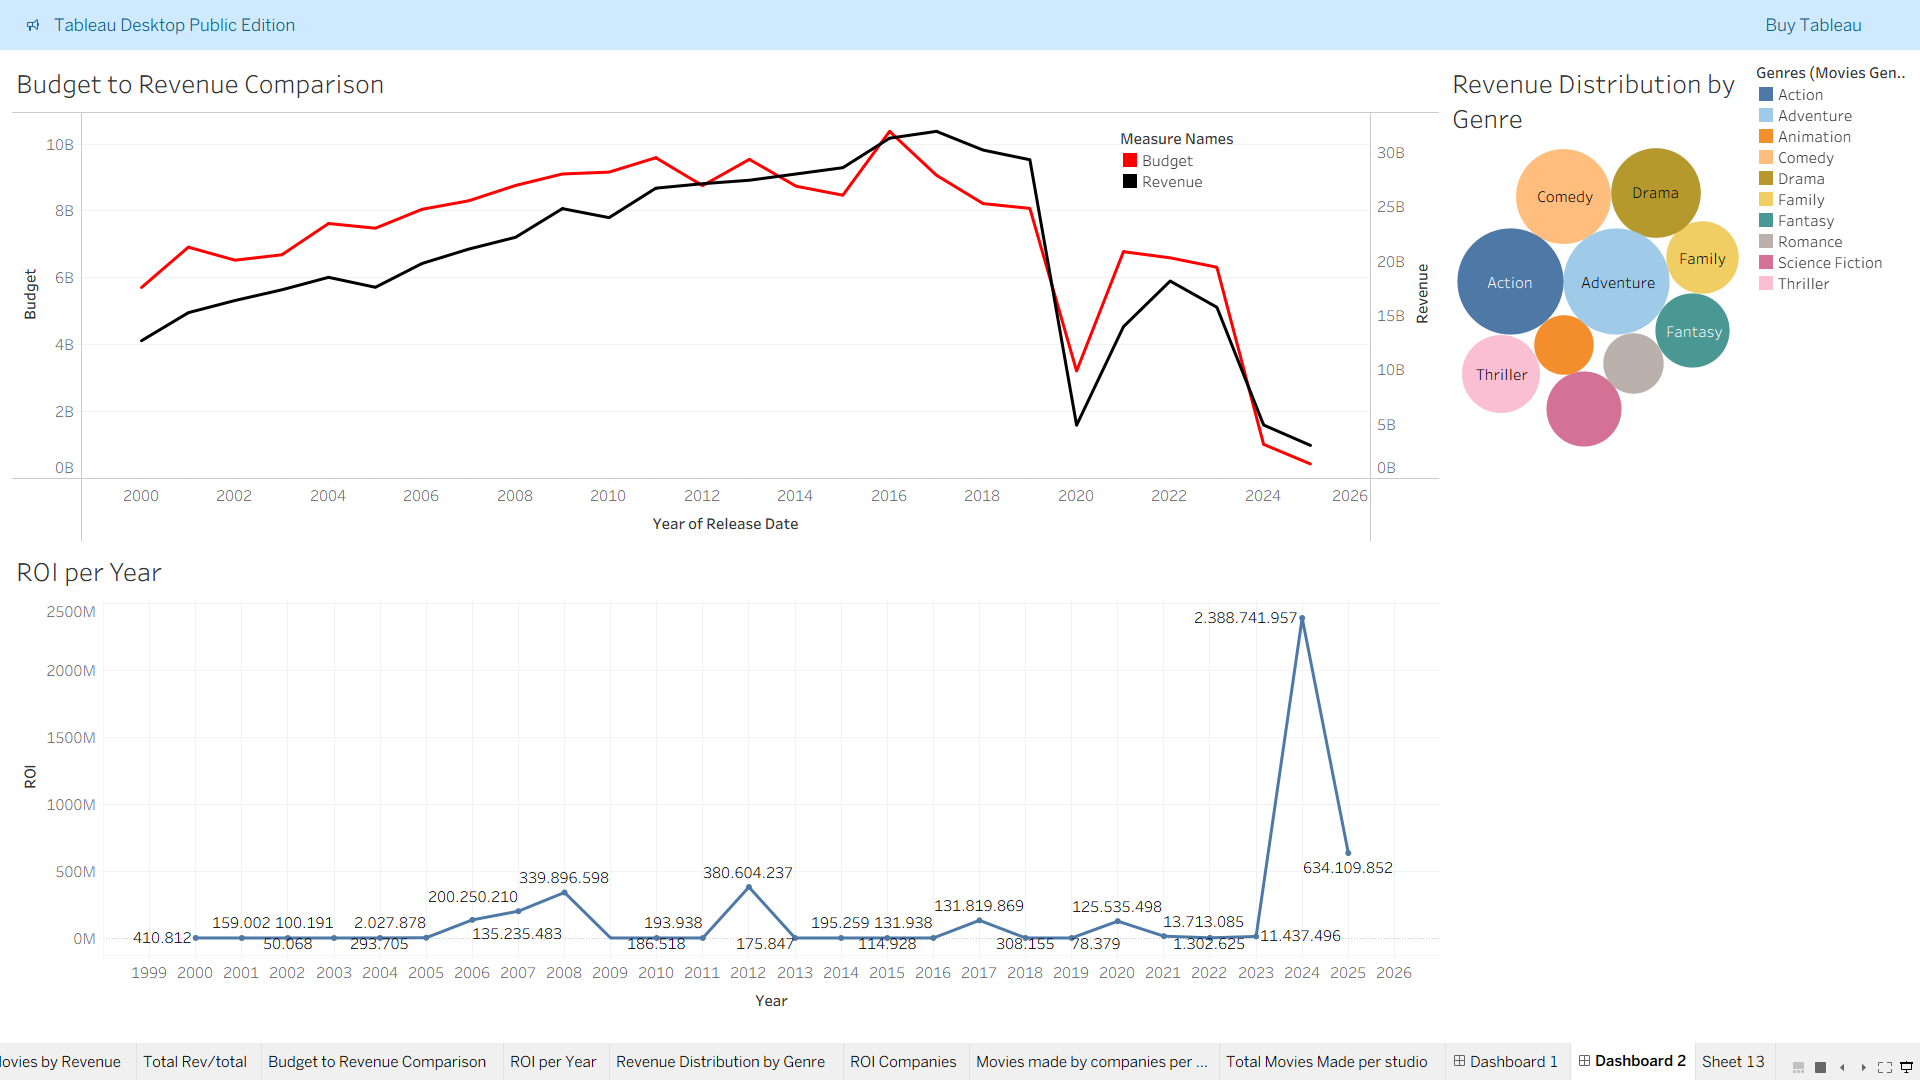

The dashboard page shown, as its layout file describes it:
{"tool":"tableau","page":{"name":"Dashboard 2","canvas":[1000,1000],"units":"permille","ordinal":1},"visuals":[{"type":"worksheet","title":"Budget to Revenue Comparison","mark":"Automatic","rows":["budget","revenue"],"cols":["release_date"],"box":[4.8,10,707.9,490]},{"type":"worksheet","title":"Revenue Distribution by Genre","mark":"Circle","box":[712.7,10,185.9,980]},{"type":"legend","title":"Revenue Distribution by Genre","param":"[federated.1au5qn51ueqzg61feqhxq1yyv38g].[none:genres (movies_genre_cleaned.csv)","box":[898.6,10,96.6,535.6]},{"type":"legend","title":"Budget to Revenue Comparison","param":"[federated.1au5qn51ueqzg61feqhxq1yyv38g].[:Measure Names]","box":[583.5,78.7,84.4,79.9]},{"type":"worksheet","title":"ROI per Year","mark":"Automatic","rows":["Calculation_1033013220633911296"],"cols":["year"],"box":[4.8,499.9,707.9,490.1]}]}

Visuals, with their boxes on the dashboard's canvas, which has no fixed pixel size, in thousandths of its width and height (x1, y1, x2, y2). These are canvas units, not pixel positions in the 1920x1080 screenshot, which may show the page scaled, cropped or inside an application window:
"Budget to Revenue Comparison" worksheet: 5,10,713,500
"Revenue Distribution by Genre" worksheet (Circle marks): 713,10,899,990
"Revenue Distribution by Genre" legend: 899,10,995,546
"Budget to Revenue Comparison" legend: 584,79,668,159
"ROI per Year" worksheet: 5,500,713,990
